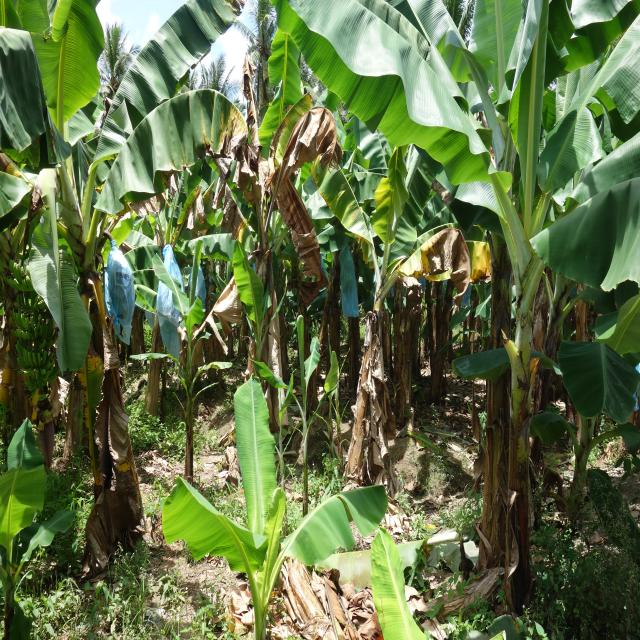Banana-plant: (492, 175, 561, 628), (58, 214, 144, 562), (464, 171, 525, 574), (316, 252, 385, 524)
